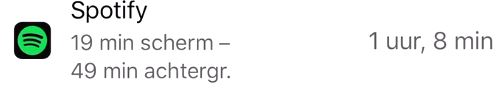name: (61, 1, 163, 27)
time: (67, 32, 139, 55), (69, 61, 141, 82)
